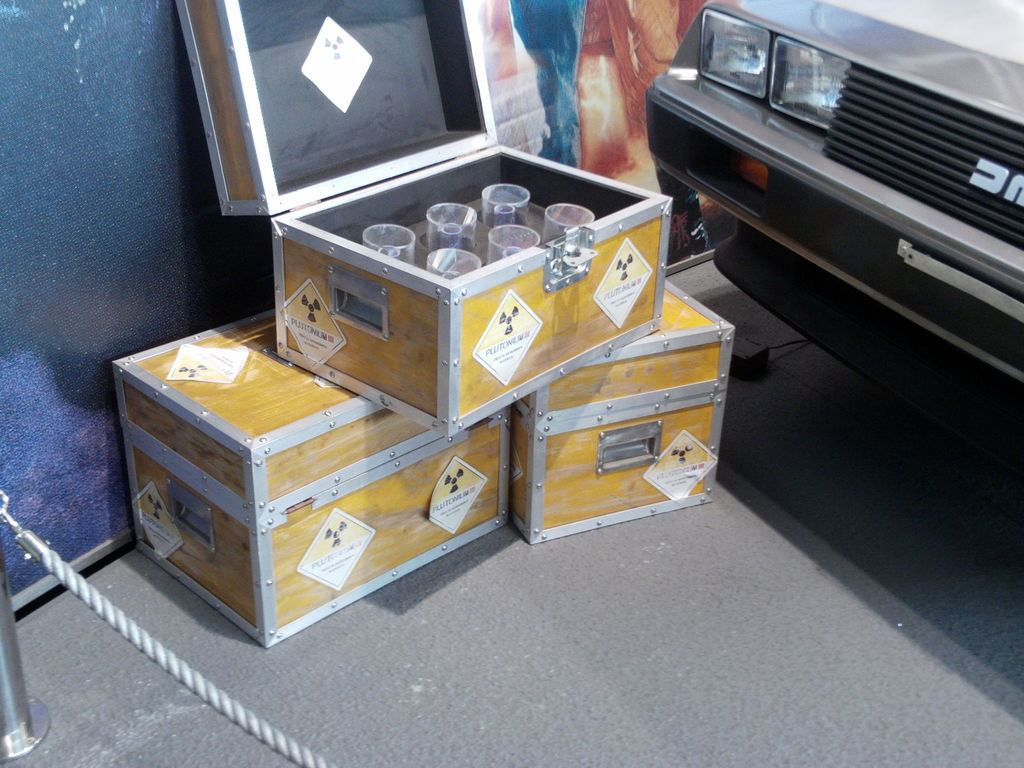Car: (645, 0, 1023, 471)
